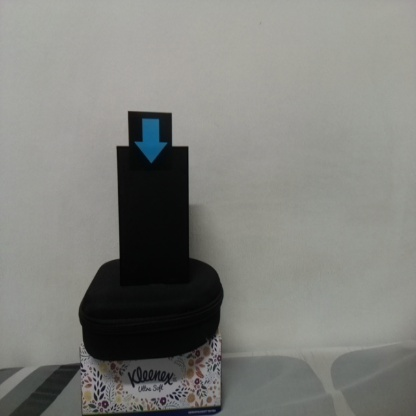id_2: (128, 112, 173, 170)
